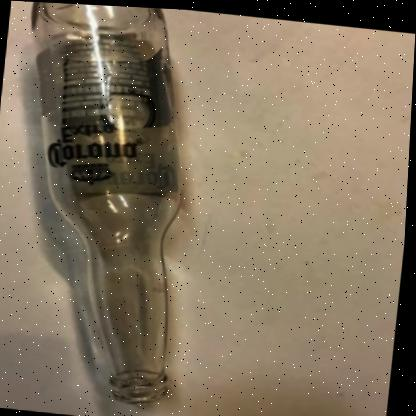Glass: (23, 1, 183, 416)
